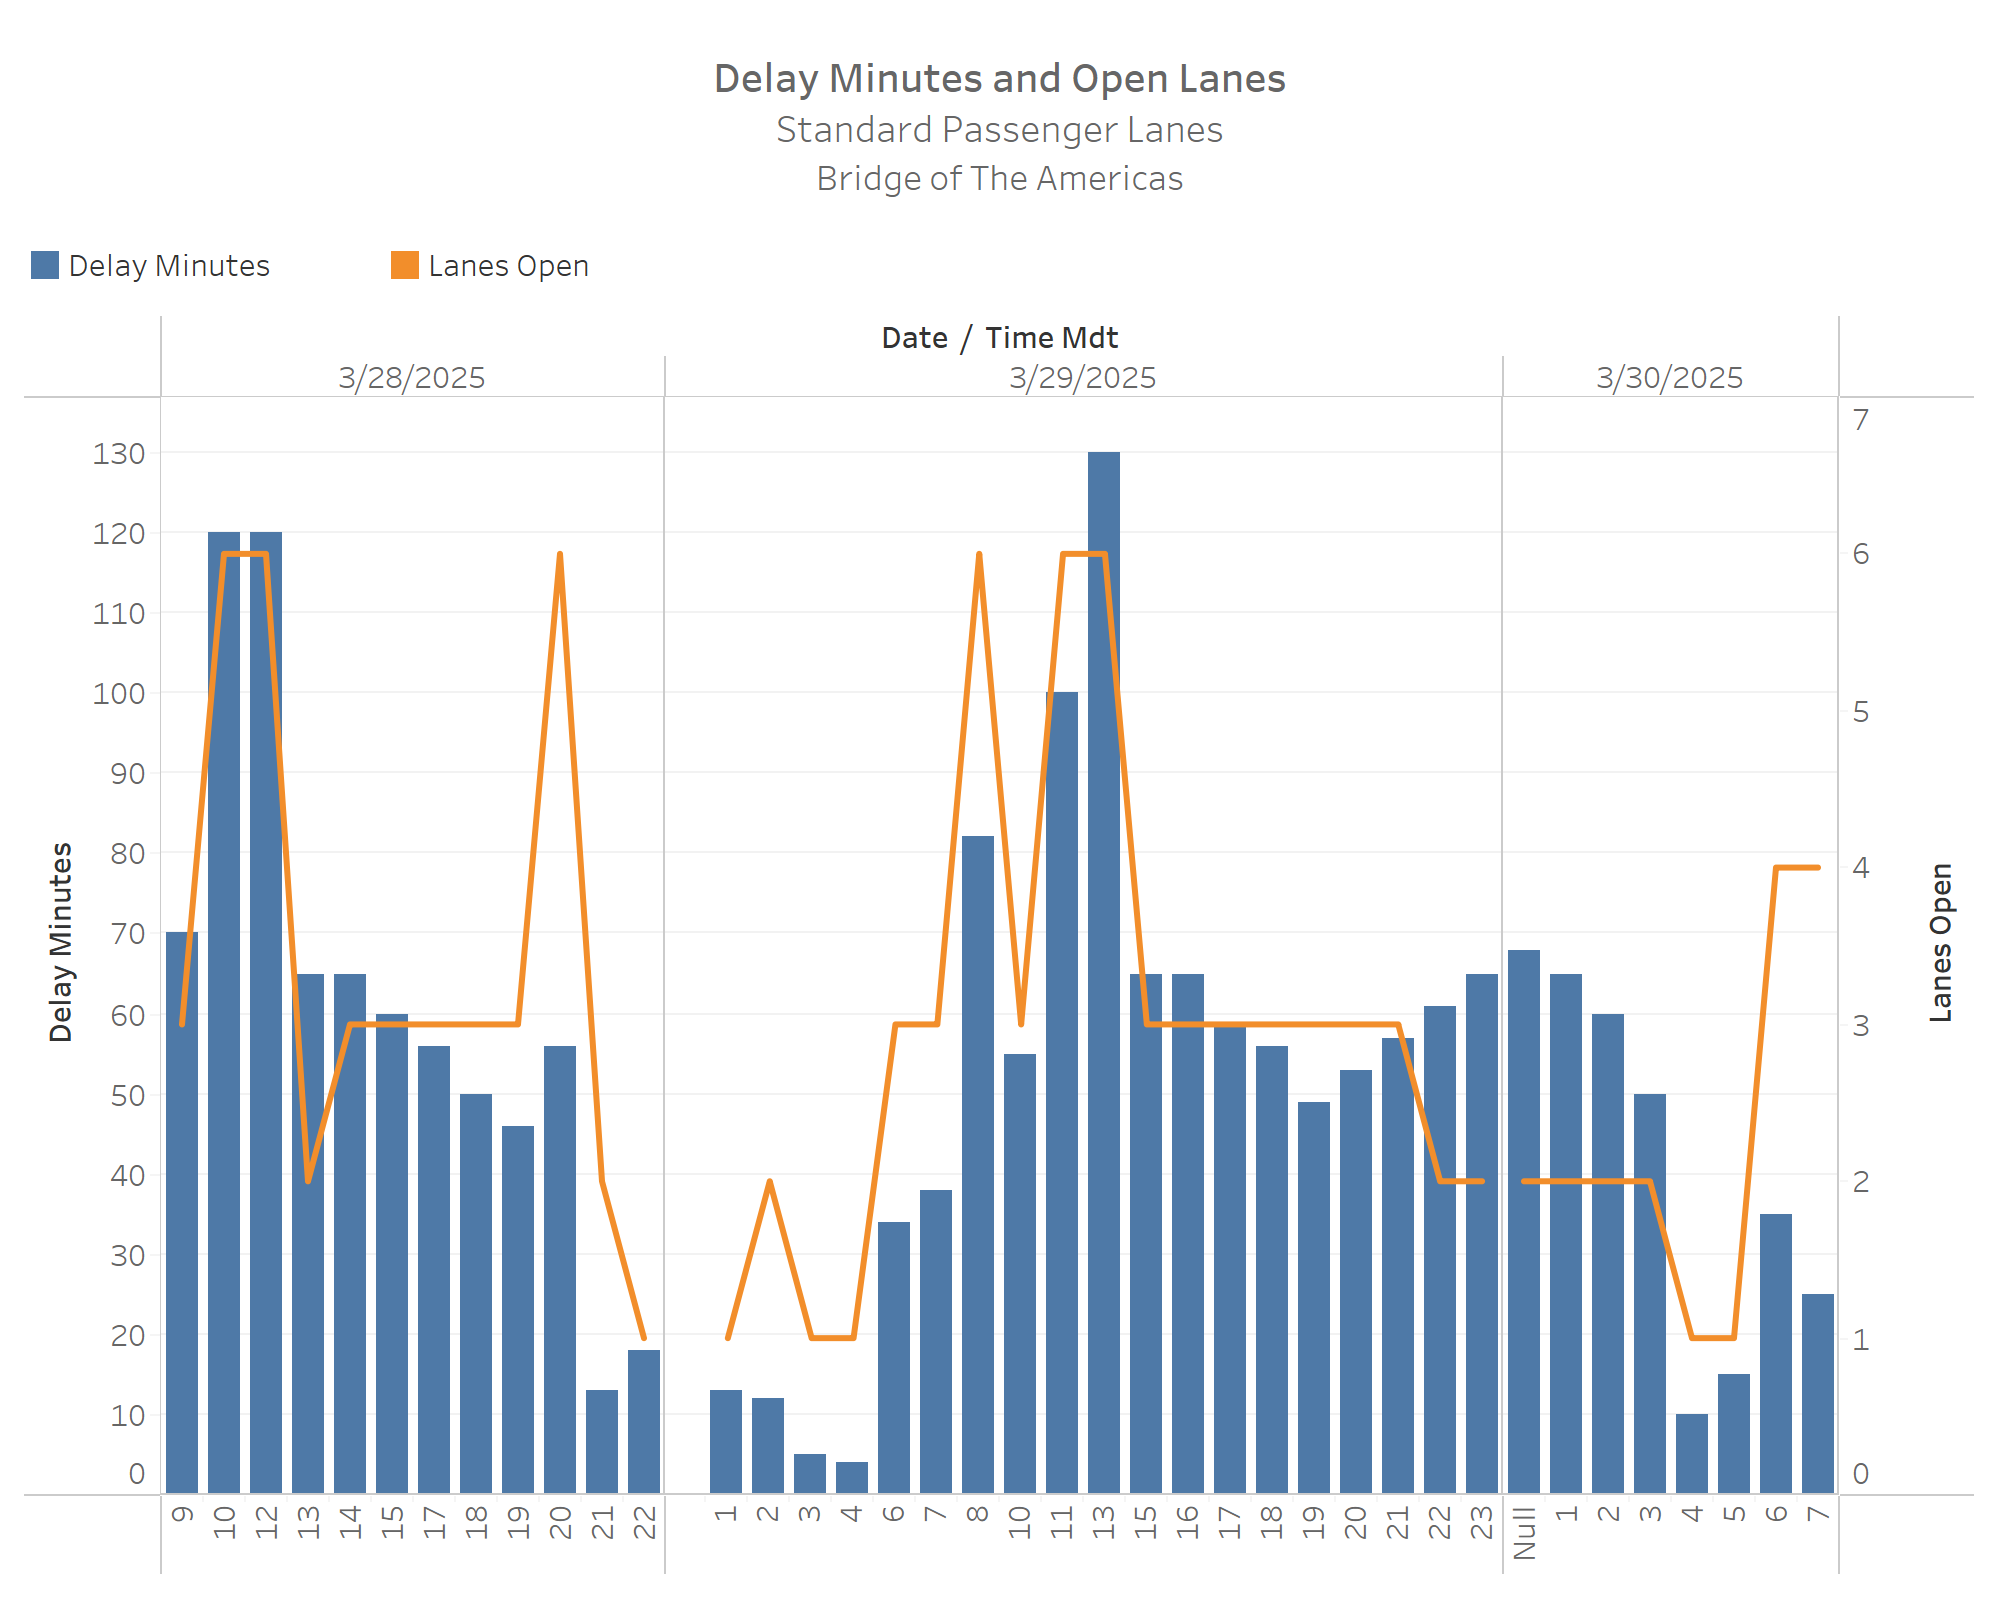

The dashboard page shown, as its layout file describes it:
{"tool":"tableau","page":{"name":"Delay Minutes and open Lanes","canvas":[1000,800],"ordinal":0},"visuals":[{"type":"text","box":[8,8,984,110]},{"type":"legend","title":"W Delay and OL","param":"[federated.1mcwgqp1a6mjrh1f5bmfg0pd2bta].[:Measure Names]","box":[8,118,984,36]},{"type":"worksheet","title":"W Delay and OL","mark":"Bar","rows":["delay_minutes","lanes_open"],"cols":["date","time_mdt"],"box":[8,154,984,638]}]}

Visuals, with their boxes in screenshot pixels (x1, y1, x2, y2), scaled from the page's 1000x800 canvas onto the 2000x1600 screenshot:
text: bbox(16, 16, 1984, 236)
"W Delay and OL" legend: bbox(16, 236, 1984, 308)
"W Delay and OL" worksheet (Bar marks): bbox(16, 308, 1984, 1584)
